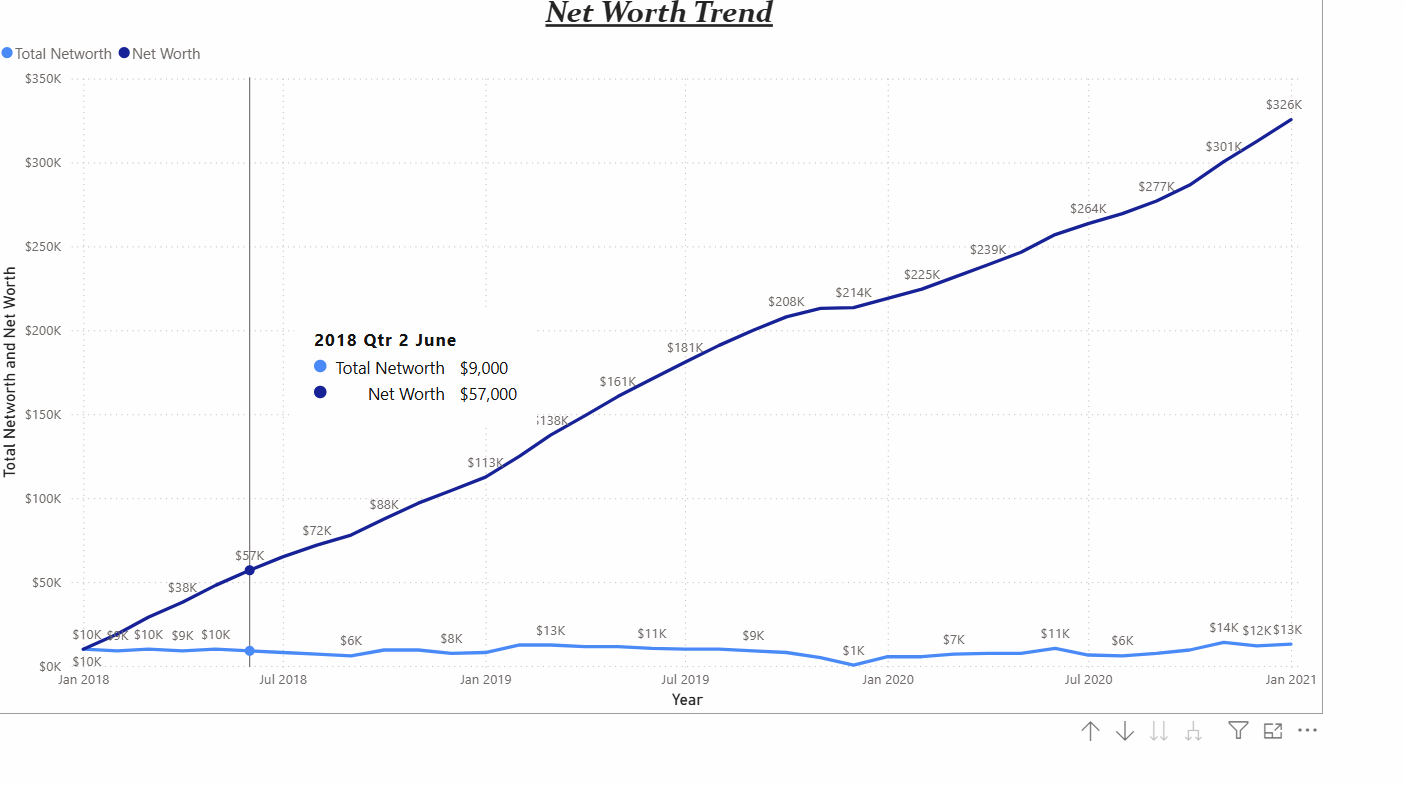

Layout of this report page (visuals, bound fields, positions):
{"tool":"powerbi","page":{"name":"TT3","canvas":[1280,720],"ordinal":3},"visuals":[{"type":"lineChart","title":"Net Worth Trend","fields":{"Y":["Key Measure.Total Savings","Key Measure.Net Worth"],"Category":["FinData.Date.Variation.Date Hierarchy.Year","FinData.Date.Variation.Date Hierarchy.Quarter","FinData.Date.Variation.Date Hierarchy.Month"]},"box":[0,0,1197.8,649.6],"z":0}]}

Visuals, with their boxes in screenshot pixels (x1, y1, x2, y2), scaled from the page's 1280x720 canvas onto the 1404x785 screenshot:
"Net Worth Trend" lineChart: {"x1": 0, "y1": 0, "x2": 1314, "y2": 708}
